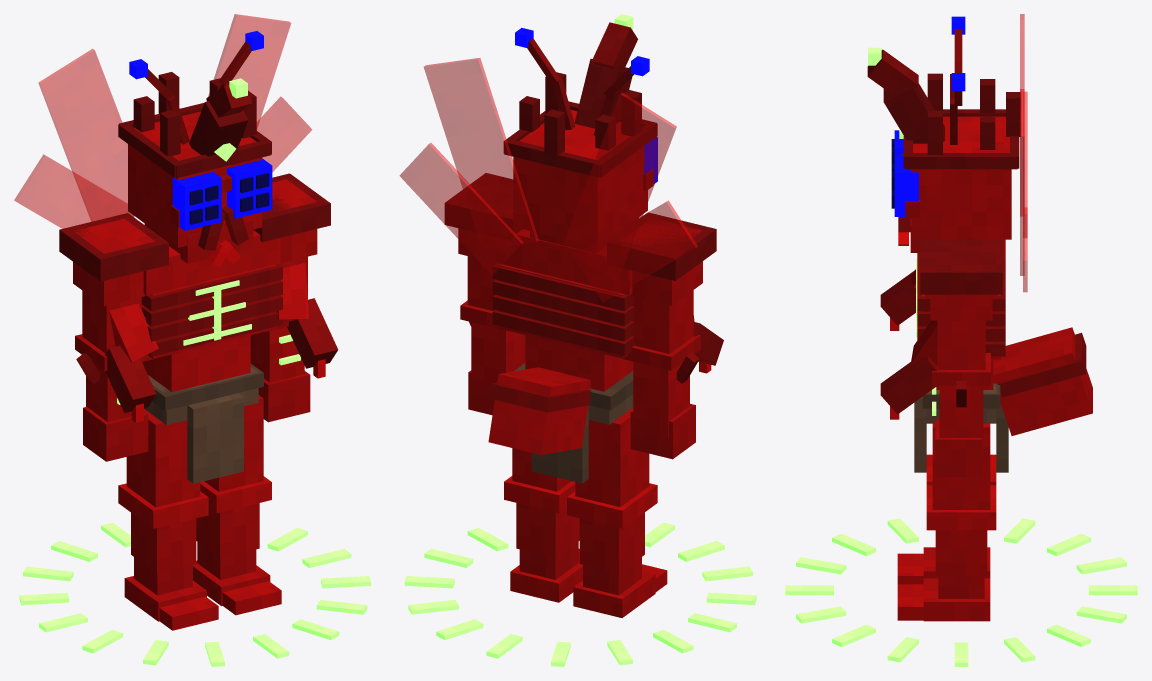
File: insectoid_s2_evo3.glb
The picture shows the model from 3 angles, left to right: view 1: azimuth 30°, elevation 25°; view 2: azimuth 150°, elevation 25°; view 3: azimuth 270°, elevation 25°; orthographic projection.
Parts seen in each view (by area): view 1: Torso, Head, LegR, ArmR, LegL, ArmL, Root; view 2: Torso, Head, ArmR, LegR, ArmL, LegL, Root; view 3: Head, Torso, ArmL, LegL, Root, LegR.
Boxes of the visible parts, bbox=[...] form: Torso: bbox=[14, 14, 338, 483]; Head: bbox=[118, 31, 272, 267]; LegR: bbox=[118, 409, 218, 630]; ArmR: bbox=[59, 213, 168, 461]; LegL: bbox=[193, 395, 281, 615]; ArmL: bbox=[250, 173, 330, 422]; Root: bbox=[19, 522, 370, 666]; Torso: bbox=[399, 58, 723, 483]; Head: bbox=[503, 14, 657, 252]; ArmR: bbox=[607, 212, 716, 459]; LegR: bbox=[567, 407, 667, 617]; ArmL: bbox=[444, 173, 525, 415]; LegL: bbox=[504, 448, 582, 602]; Root: bbox=[404, 522, 756, 666]; Head: bbox=[867, 16, 1021, 252]; Torso: bbox=[880, 14, 1092, 472]; ArmL: bbox=[920, 239, 1002, 476]; LegL: bbox=[897, 423, 996, 621]; Root: bbox=[785, 518, 1137, 666]; LegR: bbox=[897, 454, 996, 584].
Size of the model in its own units: 1.16 by 1.98 by 1.16.
Materials: 25 (25 with a texture image).
